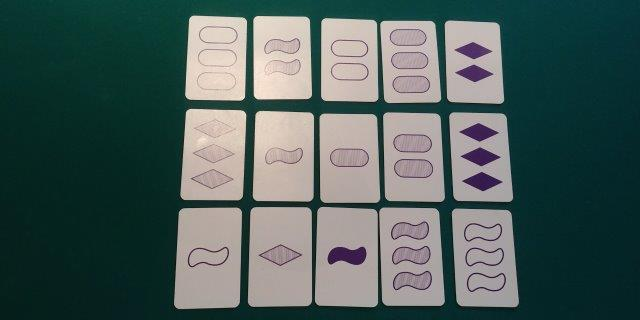1EW: (179, 211, 237, 302)
1FW: (320, 210, 373, 303)
1HD: (253, 208, 307, 304)
1HP: (322, 115, 374, 200)
1HW: (258, 112, 309, 200)
2EP: (324, 21, 374, 100)
2FD: (449, 24, 497, 99)
2HP: (387, 114, 439, 199)
2HW: (255, 19, 308, 96)
3EP: (190, 18, 242, 97)
3EW: (457, 212, 509, 304)
3FD: (454, 116, 505, 198)
3HD: (186, 114, 239, 195)
3HP: (384, 22, 433, 100)
3HW: (383, 211, 437, 304)
